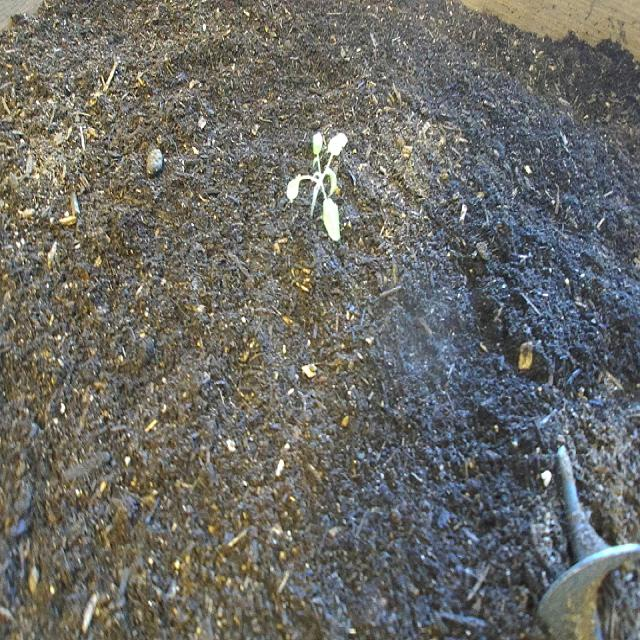Healthy: (284, 125, 352, 246)
